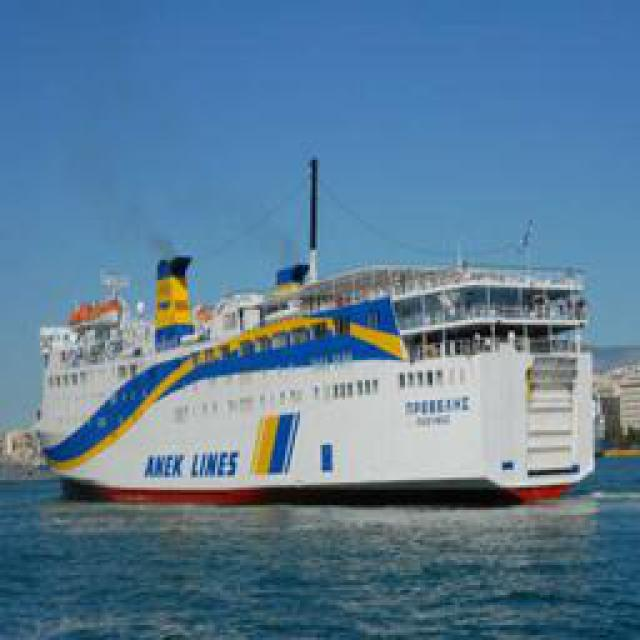Ship: (41, 215, 609, 500)
